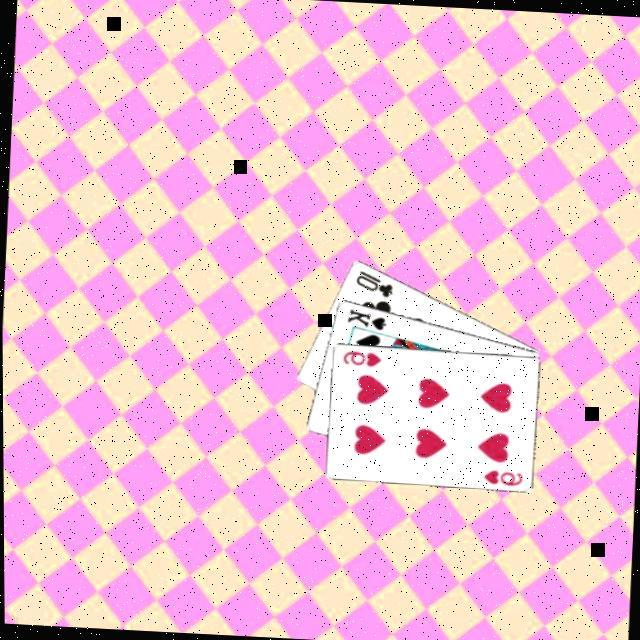10C: (352, 265, 398, 298)
6H: (339, 345, 384, 367), (481, 465, 525, 487)
KS: (344, 303, 390, 331)
